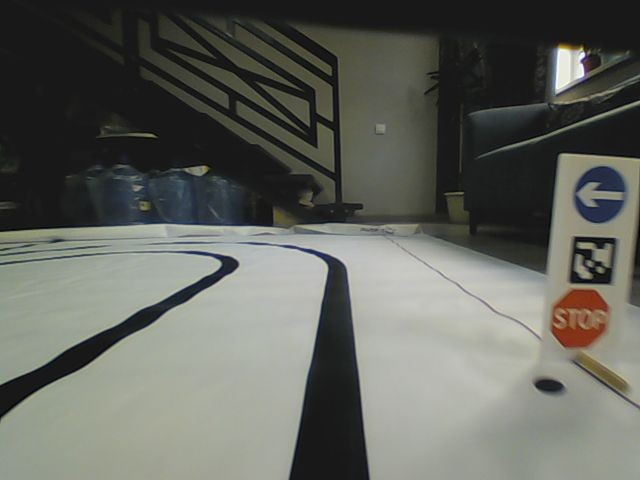Stop: (550, 289, 610, 349)
